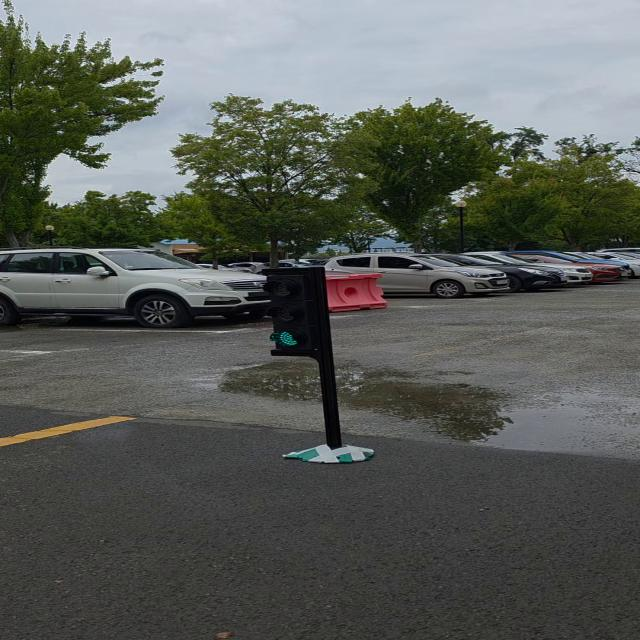green: (258, 265, 333, 357)
